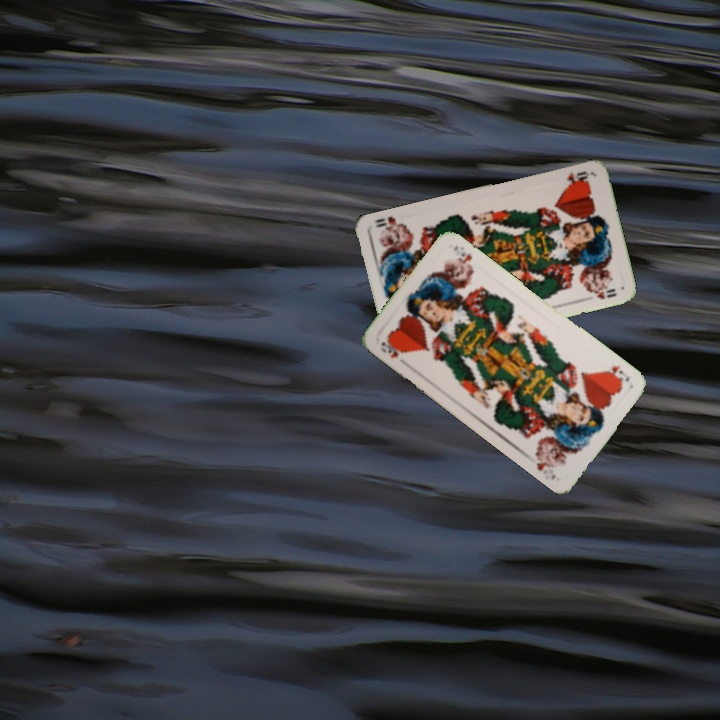HO: (376, 336, 409, 361), (600, 361, 633, 386), (562, 167, 592, 188)
